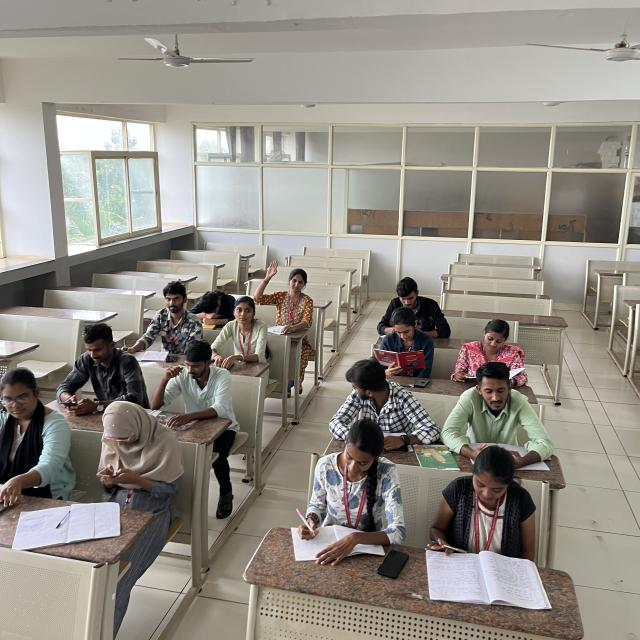Hand Rising: (256, 248, 327, 340)
Reading: (448, 364, 549, 452), (450, 318, 534, 386), (368, 308, 431, 381)
Sleeping: (190, 273, 240, 330)
Using Phone: (83, 392, 194, 505), (40, 313, 138, 416)
Writing: (289, 421, 405, 551), (419, 446, 546, 564)
